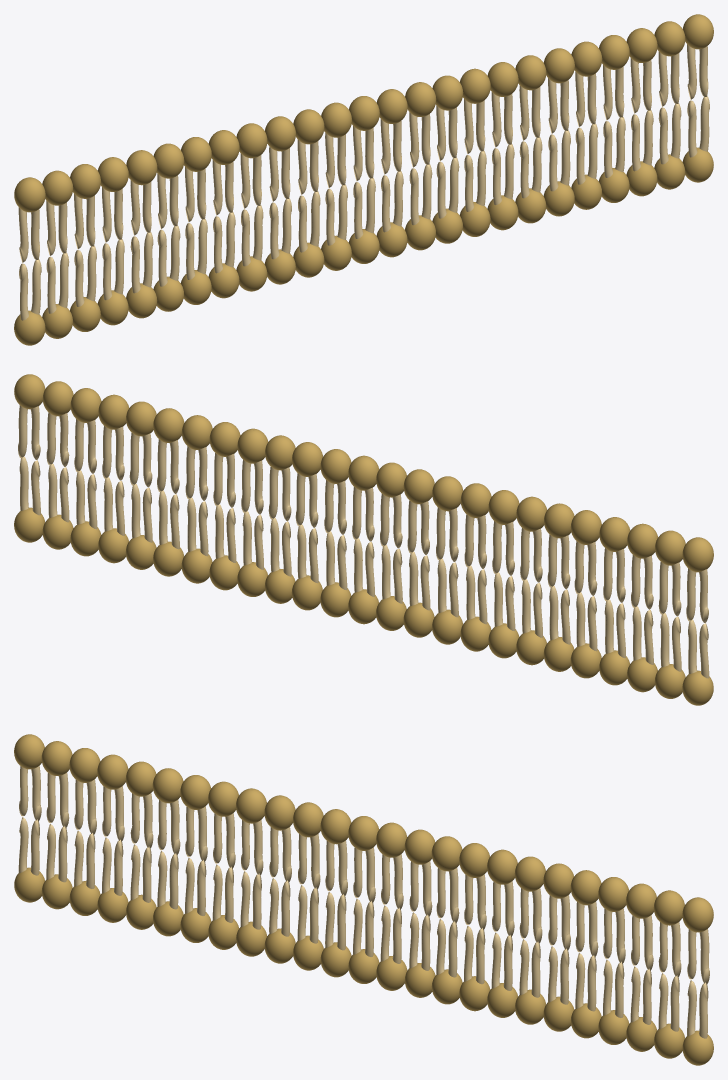
Rendered from Phospholipid_bilayer_Beige.glb.
3 views of the same model, one above another, from view 1: azimuth 30°, elevation 25°; view 2: azimuth 150°, elevation 25°; view 3: azimuth 330°, elevation 25° (orthographic).
Visible parts, largest first — view 1: BezierCurve.080, BezierCurve.075, BezierCurve.077, BezierCurve.076, BezierCurve.078, BezierCurve.072, BezierCurve.079, BezierCurve.068, BezierCurve.069, BezierCurve.066; view 2: BezierCurve.072, BezierCurve.079, BezierCurve.080, BezierCurve.068, BezierCurve.066, BezierCurve.069, BezierCurve.075, BezierCurve.077, BezierCurve.078, BezierCurve.076; view 3: BezierCurve.068, BezierCurve.069, BezierCurve.066, BezierCurve.079, BezierCurve.072, BezierCurve.077, BezierCurve.078, BezierCurve.076, BezierCurve.080, BezierCurve.075.
Boxes of the visible parts, x1,y1,x2,y2 form: BezierCurve.080: (14,232,157,345); BezierCurve.075: (293,164,435,277); BezierCurve.077: (571,96,713,209); BezierCurve.076: (432,130,574,243); BezierCurve.078: (153,198,295,311); BezierCurve.072: (14,150,157,262); BezierCurve.079: (293,82,436,194); BezierCurve.068: (571,14,713,126); BezierCurve.069: (153,116,295,228); BezierCurve.066: (432,48,574,160); BezierCurve.072: (570,510,713,622); BezierCurve.079: (292,442,434,554); BezierCurve.080: (570,592,713,705); BezierCurve.068: (14,374,156,487); BezierCurve.066: (153,408,295,521); BezierCurve.069: (432,476,574,589); BezierCurve.075: (291,524,434,637); BezierCurve.077: (14,456,156,569); BezierCurve.078: (432,558,574,671); BezierCurve.076: (153,490,295,603); BezierCurve.068: (570,870,713,984); BezierCurve.069: (152,768,295,882); BezierCurve.066: (431,836,573,950); BezierCurve.079: (293,802,435,916); BezierCurve.072: (14,734,156,848); BezierCurve.077: (570,953,713,1065); BezierCurve.078: (153,851,295,963); BezierCurve.076: (431,919,574,1031); BezierCurve.080: (14,817,156,929); BezierCurve.075: (293,885,435,997).
Size of the model in its own units: 20.79 by 4.73 by 0.8201.
